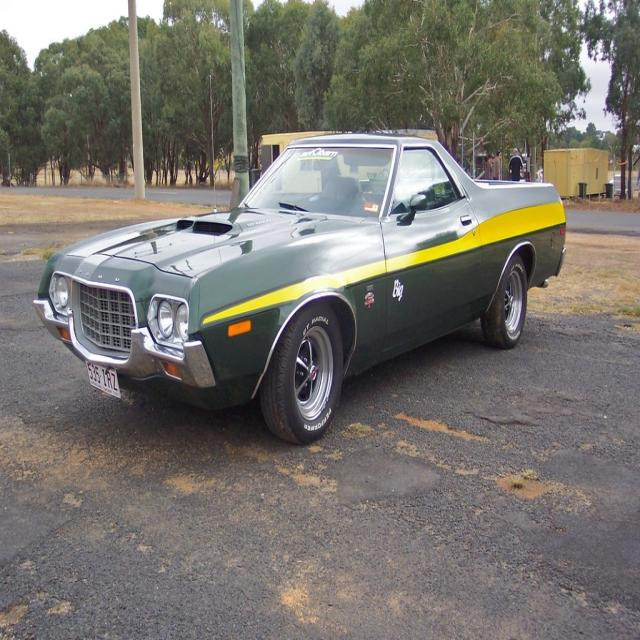car: (44, 125, 551, 437)
